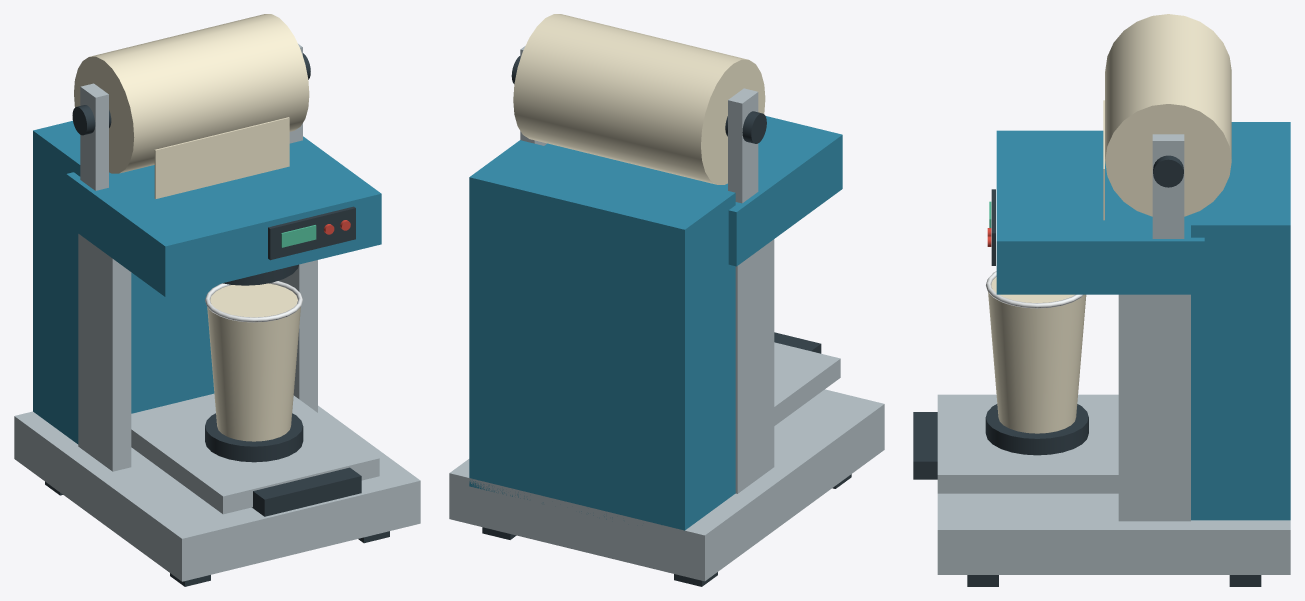
The model's file is cup_sealer.glb.
3 views of the same model, side by side, from view 1: azimuth 30°, elevation 25°; view 2: azimuth 150°, elevation 25°; view 3: azimuth 270°, elevation 25° (orthographic). The views are drawn at different scales.
Visible parts, largest first — view 1: sealing_head, base, film_roll, rear_column, side_column (×2), cup_drawer, sample_cup, film_feed, drawer_handle, roll_bracket, cup_holder, control_panel (+4 smaller); view 2: rear_column, film_roll, base, sealing_head, side_column, cup_drawer, roll_bracket, film_spindle; view 3: rear_column, sealing_head, base, film_roll, side_column, cup_drawer, sample_cup, cup_holder, roll_bracket, drawer_handle, film_spindle, cup_lip.
Part boxes in pixels (x1,y1,x2,y2): sealing_head: (66,136,381,296); base: (14,405,420,581); film_roll: (74,14,309,173); rear_column: (33,120,221,444); side_column (×2): (78,234,317,471); cup_drawer: (131,393,379,514); sample_cup: (207,283,300,441); film_feed: (154,117,289,199); drawer_handle: (252,467,361,516); roll_bracket: (80,83,108,190); cup_holder: (205,413,303,462); control_panel: (268,206,355,260); rear_column: (469,140,735,530); film_roll: (513,14,765,184); base: (449,389,884,581); sealing_head: (544,116,842,266); side_column: (735,239,774,493); cup_drawer: (774,342,840,425); roll_bracket: (728,88,758,203); film_spindle: (511,56,766,143); rear_column: (1191,122,1290,520); sealing_head: (996,130,1204,294); base: (937,493,1290,574); film_roll: (1105,14,1231,216); side_column: (1118,294,1190,521); cup_drawer: (937,394,1118,493); sample_cup: (988,277,1086,433); cup_holder: (985,404,1088,455); roll_bracket: (1152,134,1184,238); drawer_handle: (913,412,937,479); film_spindle: (1153,155,1183,187); cup_lip: (986,271,1083,308).
Size of the model in its own units: 0.32 by 0.58 by 0.417.
